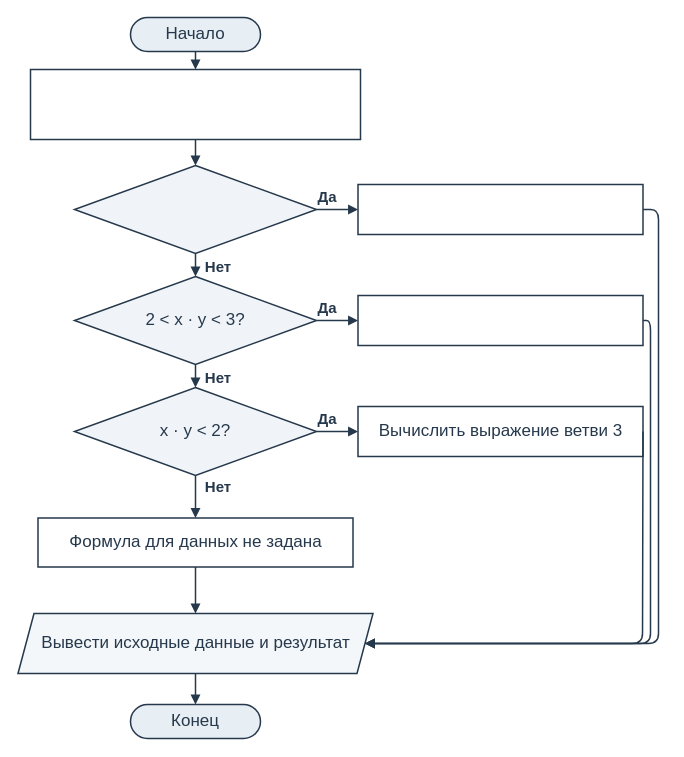
The diagram is 684 pixels wide and 757 high, and some of its shapes have lost their labels. Here are the shapes that lost their labels. From the top down, the centre of each, then its label:
point (195, 104): Задать значения в программе x, y, c, d
point (195, 209): x · y > 3?
point (500, 209): Вычислить выражение ветви 1
point (500, 320): Вычислить выражение ветви 2
